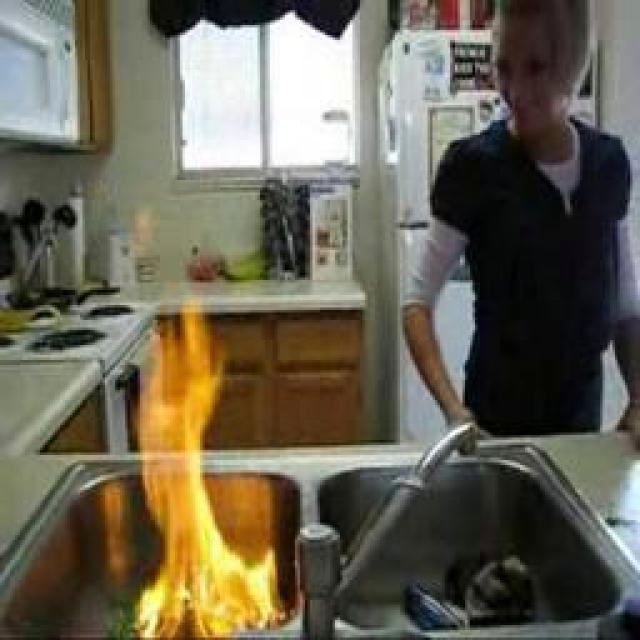fire: (135, 285, 283, 639)
